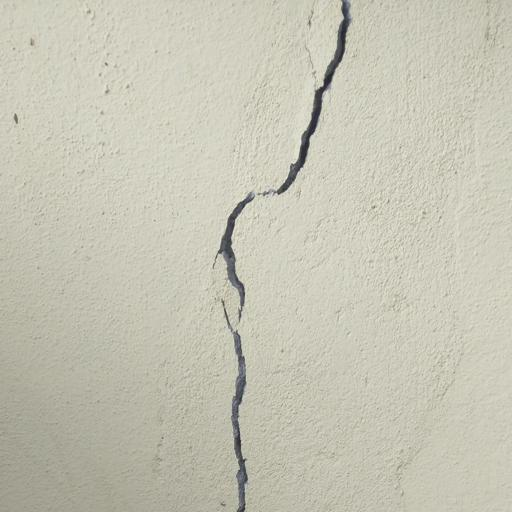major_crack: (196, 0, 356, 512)
